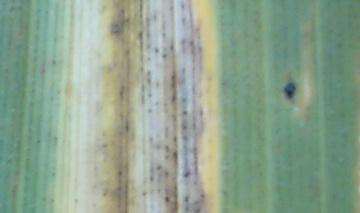tarspot: (280, 77, 299, 102)
